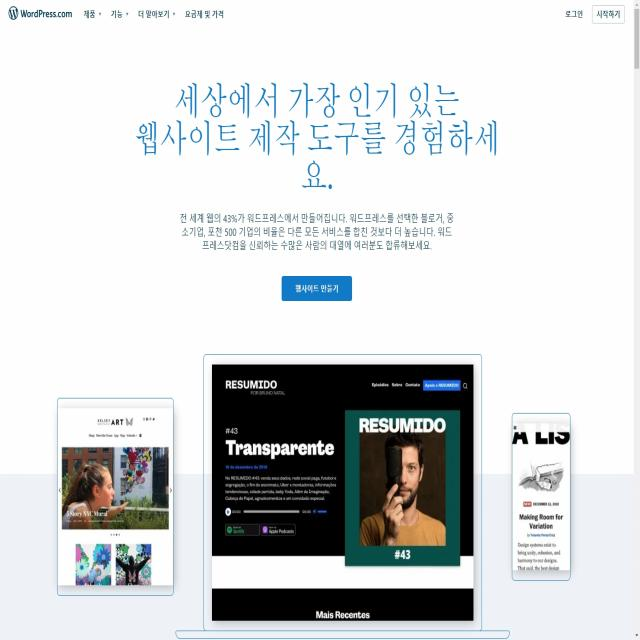menu-bar: (78, 2, 228, 25), (559, 2, 626, 26)
